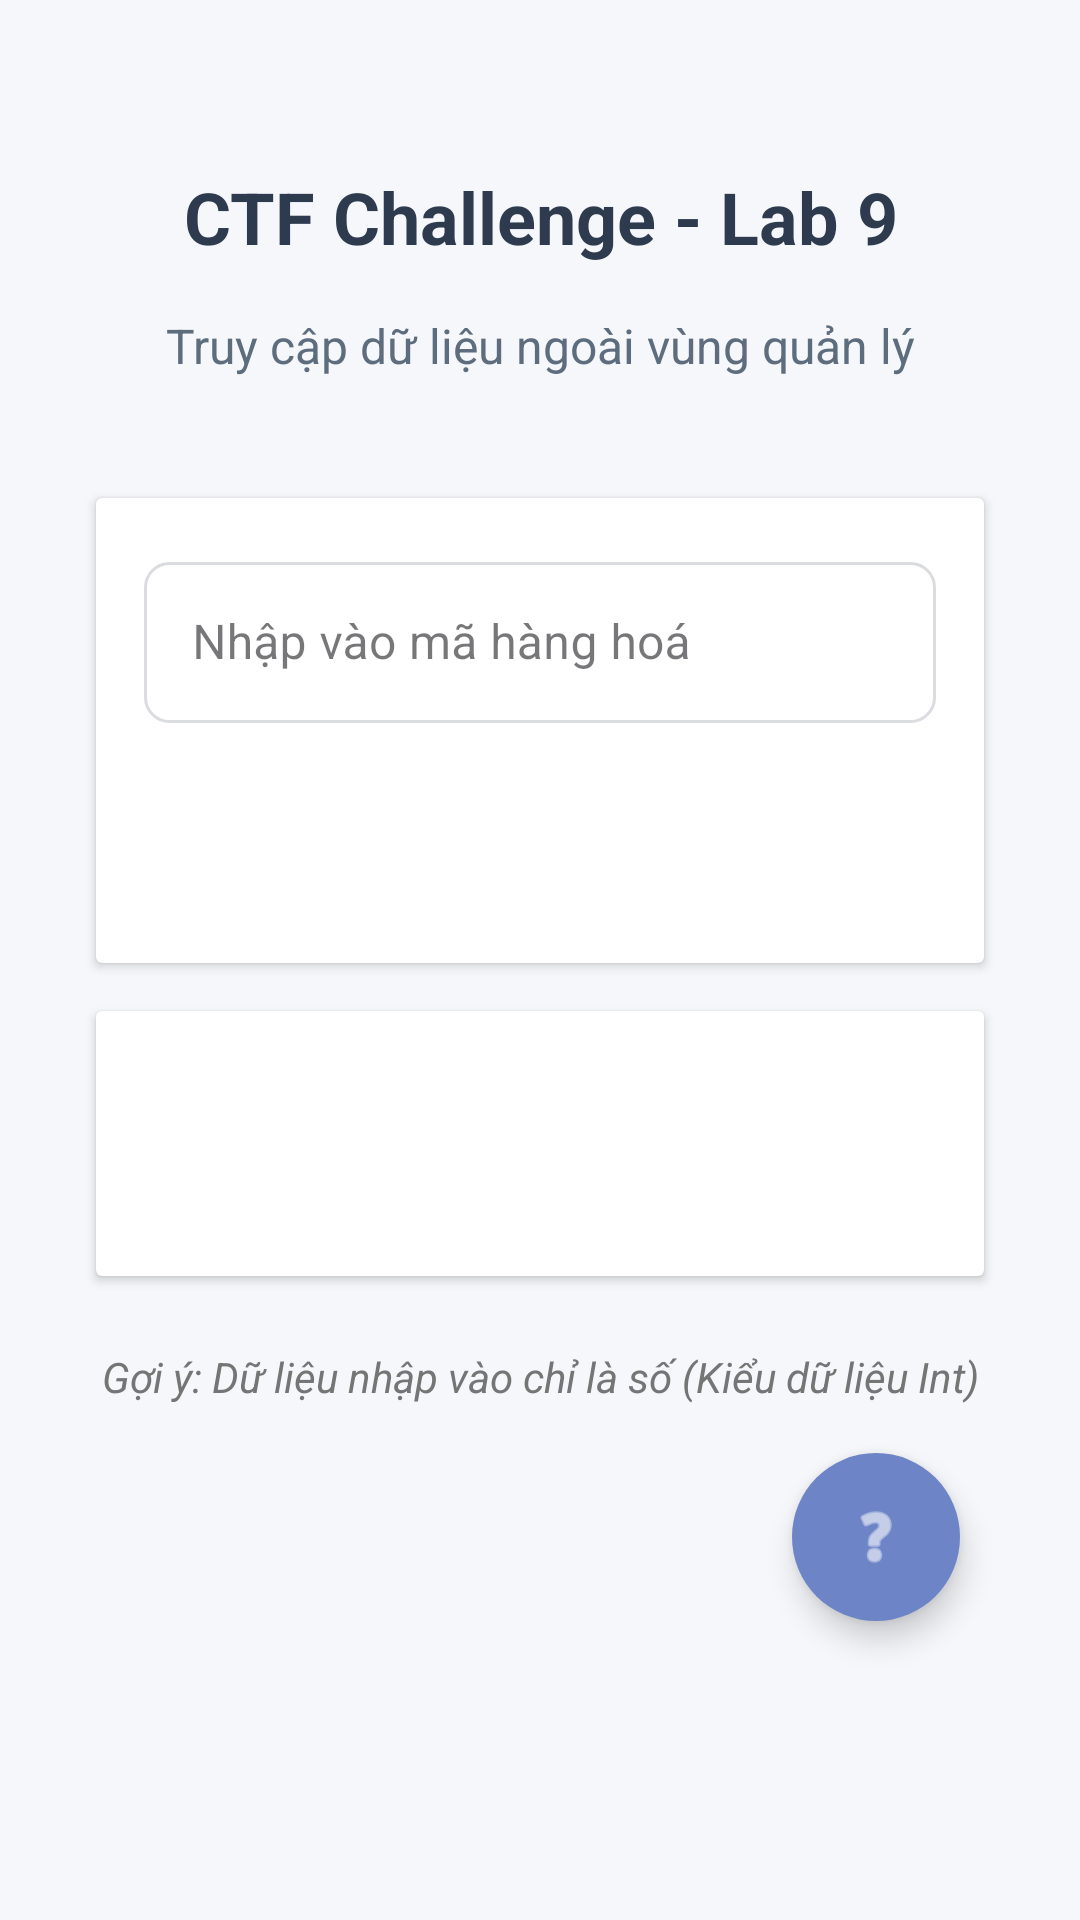

Where to tap for icons on this 1080x1920 app screen, as point (x, y):
Help: point (876, 1537)
